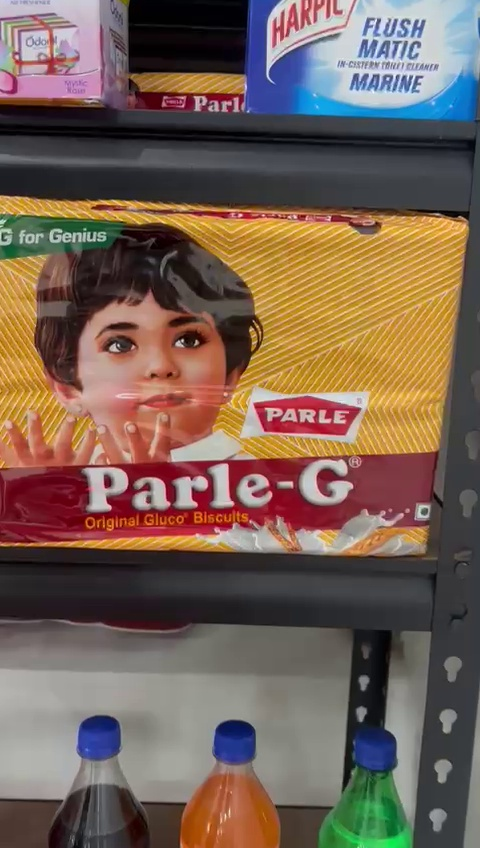Parle-G: (0, 196, 454, 566)
